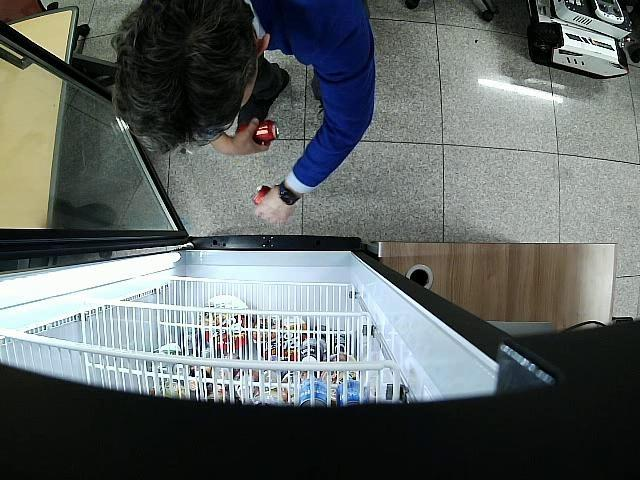11_cocaColaZero: (237, 119, 280, 141), (252, 186, 272, 204)
